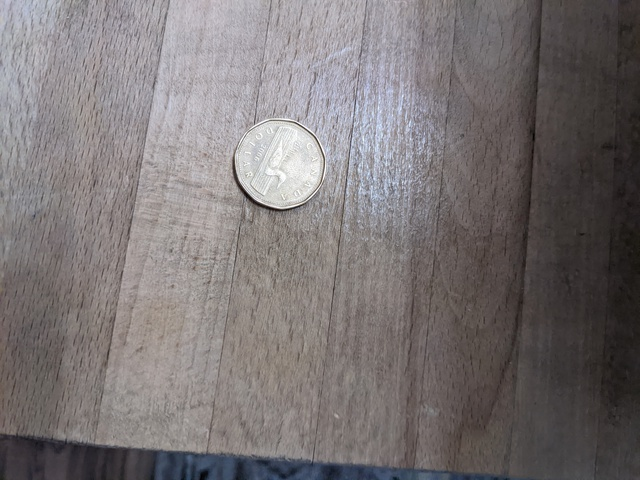loonie: (223, 118, 333, 215)
